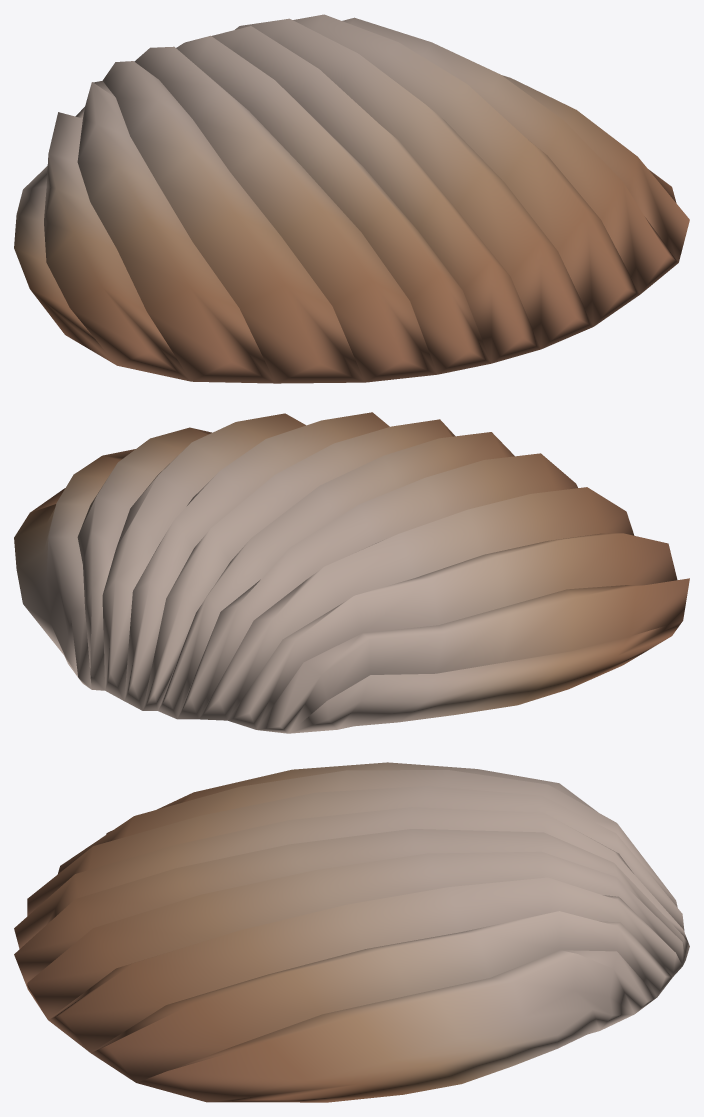
Rendered from underwater-shells-cockle-shell_v2.glb.
3 views of the same model, one above another, from view 1: azimuth 30°, elevation 25°; view 2: azimuth 150°, elevation 25°; view 3: azimuth 270°, elevation 25° (orthographic).
Visible parts, largest first — view 1: Cockle Shell_v2; view 2: Cockle Shell_v2; view 3: Cockle Shell_v2.
Boxes of the visible parts, bbox=[...] form: Cockle Shell_v2: bbox=[14, 14, 689, 383]; Cockle Shell_v2: bbox=[14, 412, 689, 733]; Cockle Shell_v2: bbox=[14, 762, 689, 1102].
Bounding box in the file's own units: 0.06 × 0.0139 × 0.058.
